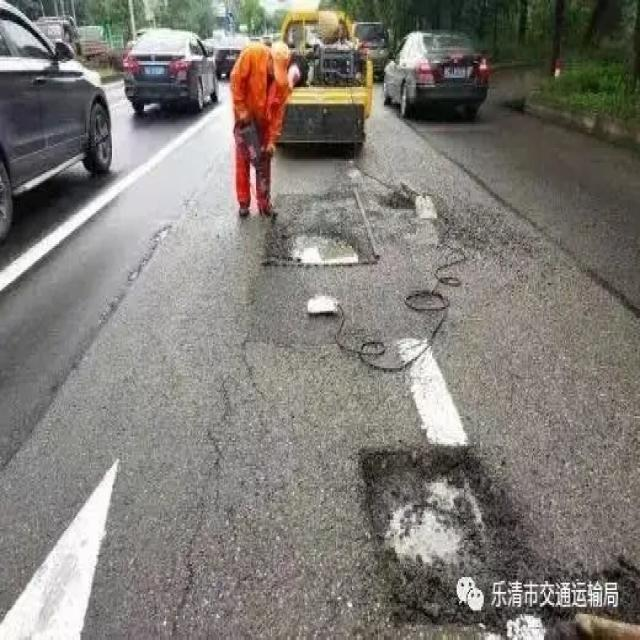pothole: (353, 439, 537, 633), (265, 219, 380, 280)
